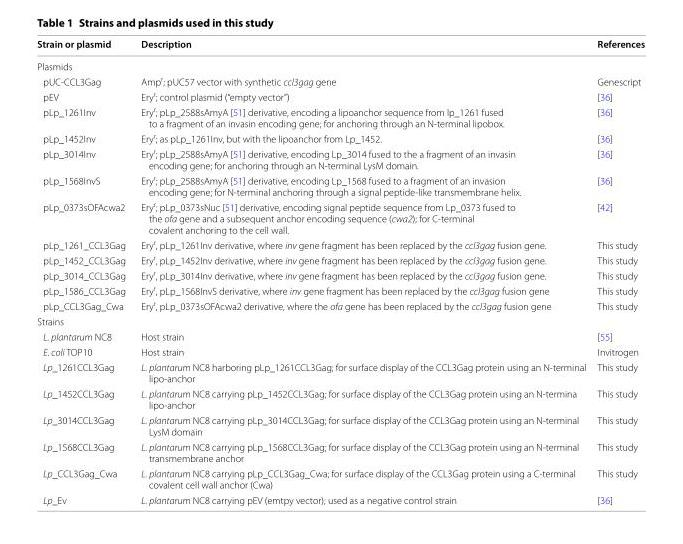table: (36, 37, 644, 505)
table column: (132, 37, 590, 505), (36, 37, 132, 505), (590, 37, 644, 505)
table column header: (36, 37, 644, 54)
table projected row header: (36, 54, 644, 73), (36, 313, 644, 328)
table row: (36, 198, 644, 236), (36, 103, 644, 130), (36, 171, 644, 198), (36, 385, 644, 412), (36, 438, 644, 465), (36, 465, 644, 492), (36, 145, 644, 171), (36, 359, 644, 385), (36, 412, 644, 438), (36, 54, 644, 73), (36, 37, 644, 54), (36, 266, 644, 282), (36, 297, 644, 313), (36, 343, 644, 359), (36, 73, 644, 88), (36, 88, 644, 103), (36, 130, 644, 145), (36, 236, 644, 251), (36, 251, 644, 266), (36, 282, 644, 297), (36, 313, 644, 328), (36, 328, 644, 343), (36, 492, 644, 505)
